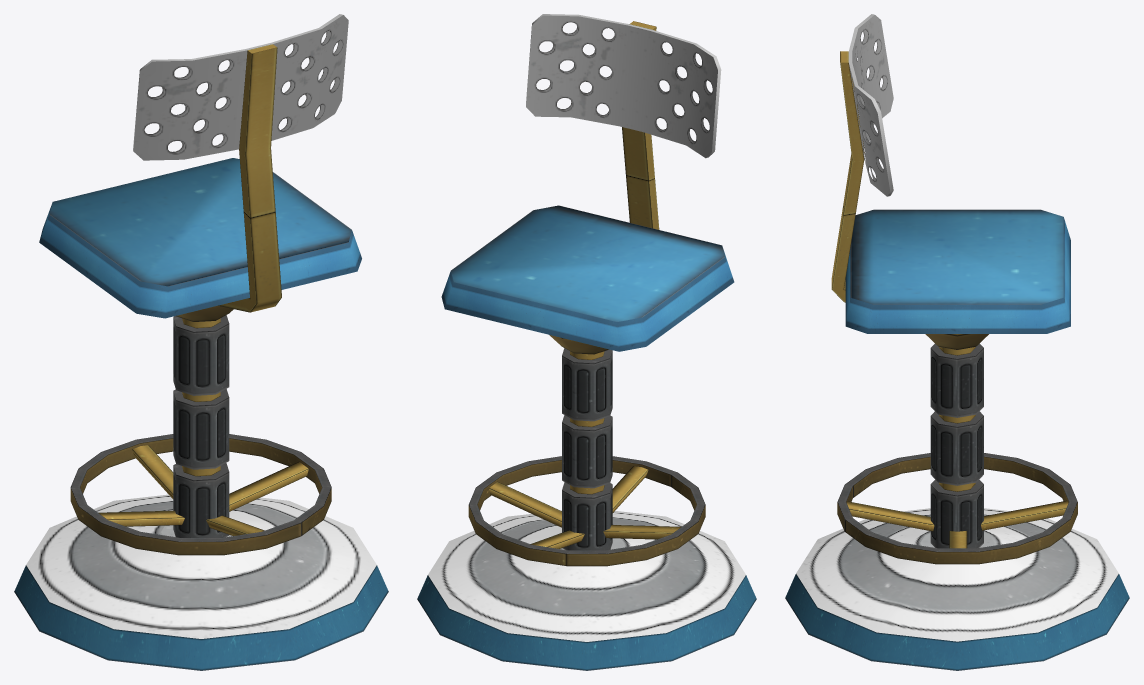
The model's file is Chair_Lab_01.FBX.
The picture shows the model from 3 angles, left to right: view 1: azimuth 30°, elevation 25°; view 2: azimuth 150°, elevation 25°; view 3: azimuth 270°, elevation 25°; orthographic projection. The views are drawn at different scales.
Visible parts, largest first — view 1: Chair_Lab_01; view 2: Chair_Lab_01; view 3: Chair_Lab_01.
Part boxes in pixels (x1,y1,x2,y2): Chair_Lab_01: [14, 14, 388, 670]; Chair_Lab_01: [417, 14, 756, 670]; Chair_Lab_01: [785, 14, 1129, 670].
Size of the model in its own units: 22.32 by 38.64 by 22.32.
